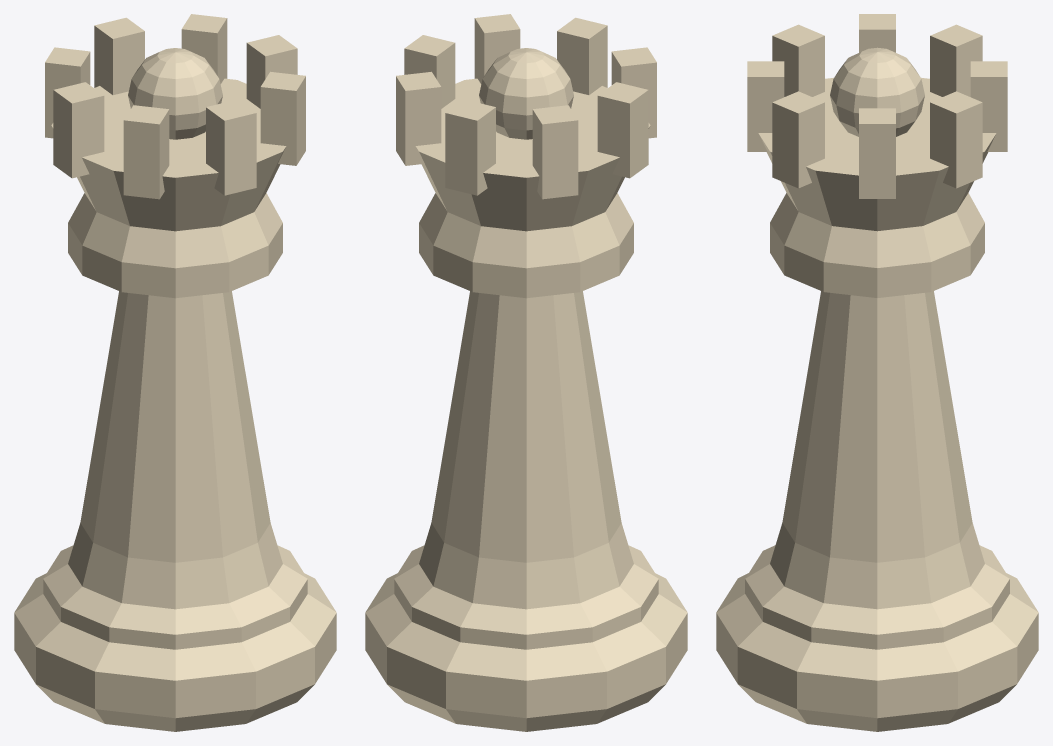
The model's file is queen.glb.
The picture shows the model from 3 angles, left to right: view 1: azimuth 30°, elevation 25°; view 2: azimuth 150°, elevation 25°; view 3: azimuth 270°, elevation 25°; orthographic projection.
Visible parts, largest first — view 1: queen; view 2: queen; view 3: queen.
Boxes of the visible parts, bbox=[...] form: queen: bbox=[14, 14, 336, 731]; queen: bbox=[365, 14, 687, 731]; queen: bbox=[716, 14, 1038, 731].
Bounding box in the file's own units: 0.78 × 1.65 × 0.78.
